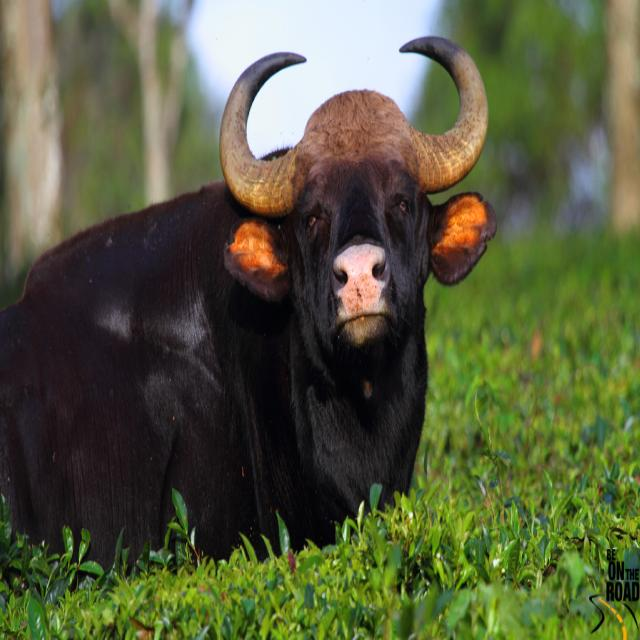cow: (0, 38, 496, 563)
